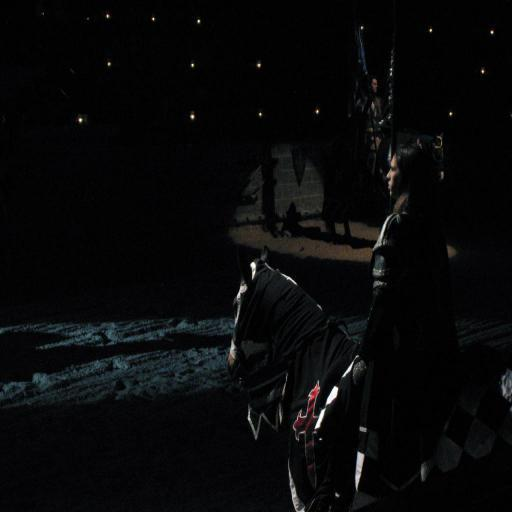horse: (226, 244, 512, 512)
